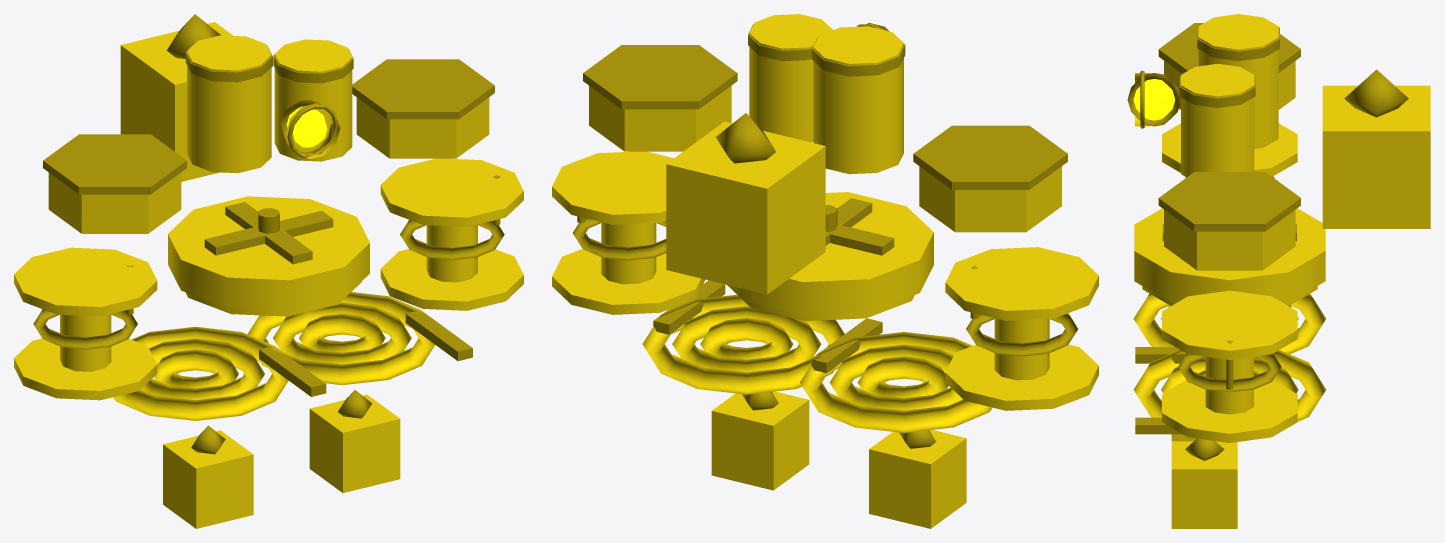
The model's file is golem_090.glb.
3 renders of one model, left to right at view 1: azimuth 30°, elevation 25°; view 2: azimuth 150°, elevation 25°; view 3: azimuth 270°, elevation 25°, orthographic. The views are drawn at different scales.
Parts seen in each view (by area): view 1: Body, Detail, Glow; view 2: Body, Detail; view 3: Body, Detail, Glow.
Boxes of the visible parts, x1,y1,x2,y2 form: Body: [14, 22, 523, 528]; Detail: [33, 14, 504, 454]; Glow: [286, 106, 327, 147]; Body: [552, 14, 1098, 528]; Detail: [573, 24, 1077, 448]; Body: [1133, 14, 1430, 528]; Detail: [1127, 23, 1408, 460]; Glow: [1133, 79, 1175, 120].
Bounding box in the file's own units: 1.46 × 1.24 × 0.7879.
